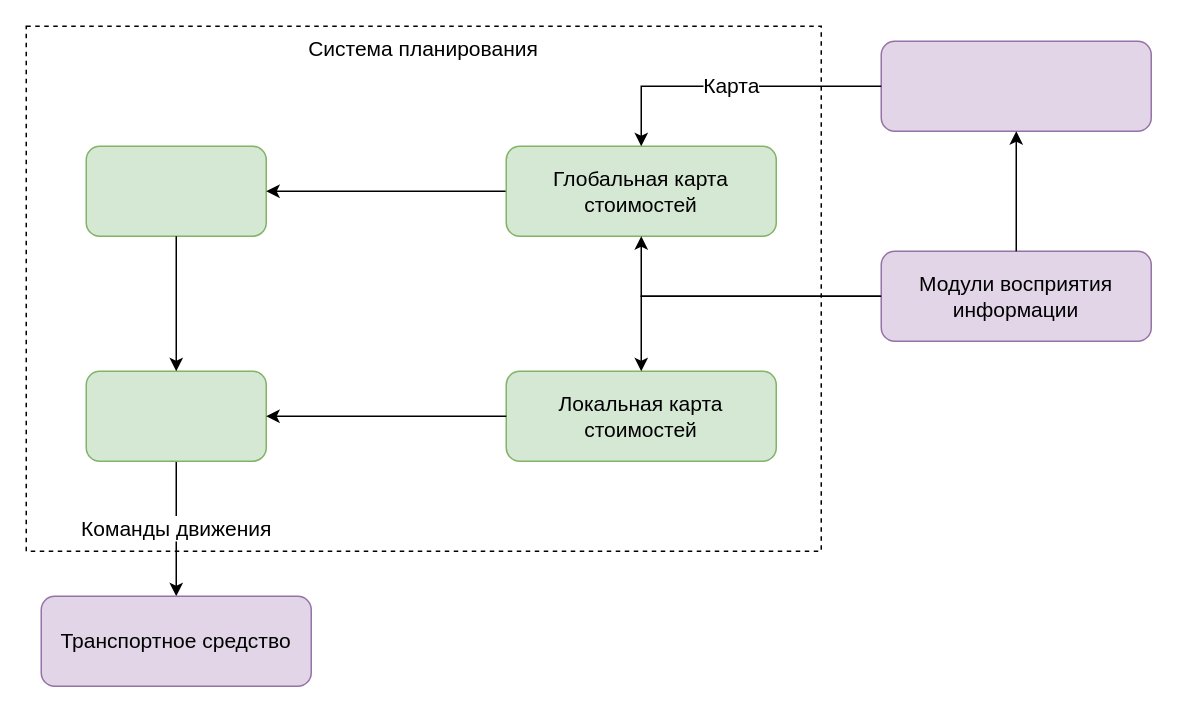
Image size: 1178x713. Some labels were removed from this diagram. Here are the shapes that lost their labels. From the top down, the centre of each, then its label:
At [1015,85]: "Система построения карты".
At [175,190]: "Глобальный планировщик".
At [175,415]: "Локальный планировщик".
